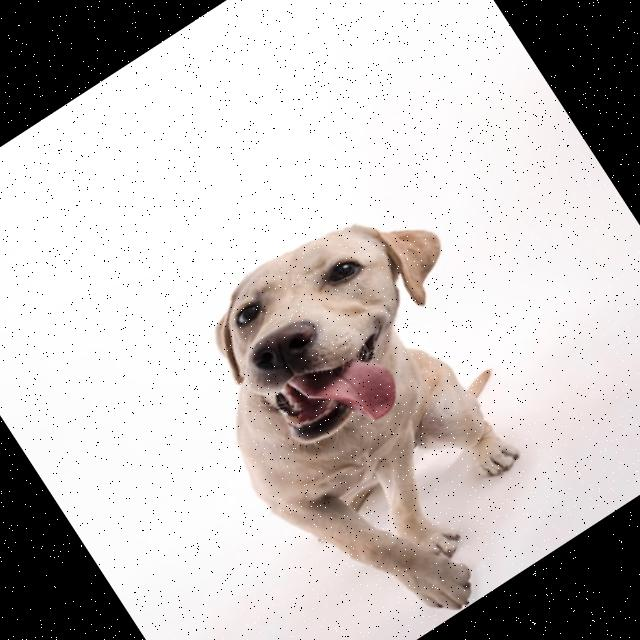Dog: (154, 174, 614, 640)
